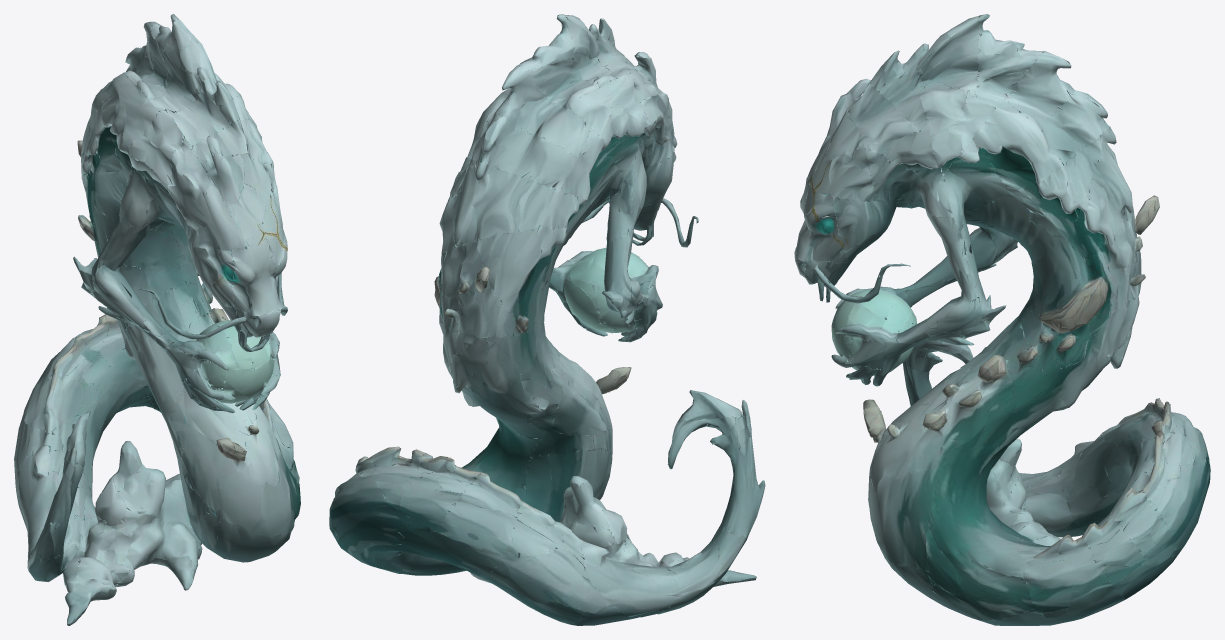
3 renders of one model, left to right at view 1: azimuth 30°, elevation 25°; view 2: azimuth 150°, elevation 25°; view 3: azimuth 270°, elevation 25°, orthographic. The views are drawn at different scales.
Visible parts, largest first — view 1: Mesh_0; view 2: Mesh_0; view 3: Mesh_0.
Part boxes in pixels (left/top/right/bottom): Mesh_0: left=14, top=14, right=300, bottom=625; Mesh_0: left=329, top=14, right=765, bottom=625; Mesh_0: left=794, top=14, right=1210, bottom=625.
Bounding box in the file's own units: 1.16 × 1.9 × 1.29.
1 material, 1 textured.
